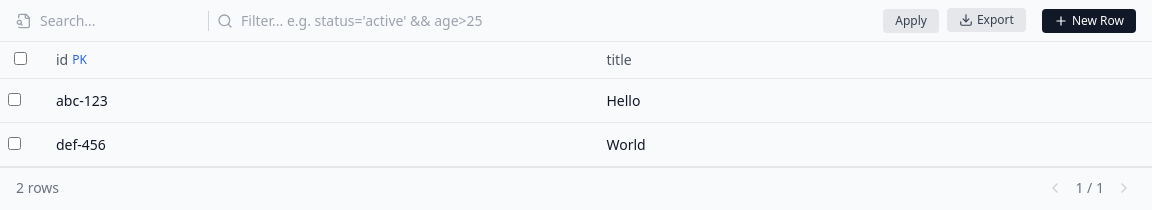
Scenario: TableBrowser › selecting a row shows Delete Selected button
Expected: the text "Hello" is shown, [590,78,1072,122]
Click the checkbox named "Select row abc-123": click(14, 99) [8,92,21,106]
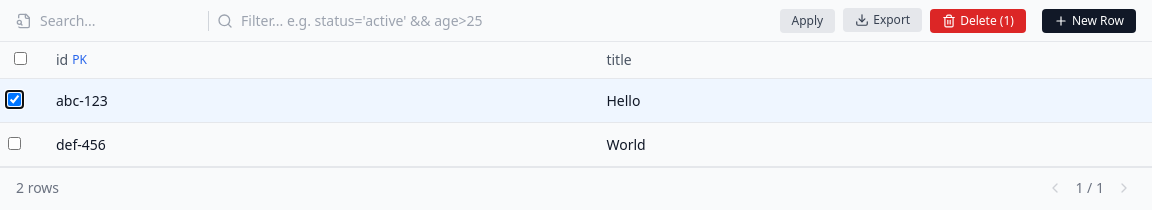
Now the button "Delete (1)" is shown, box [930,8,1026,32]
